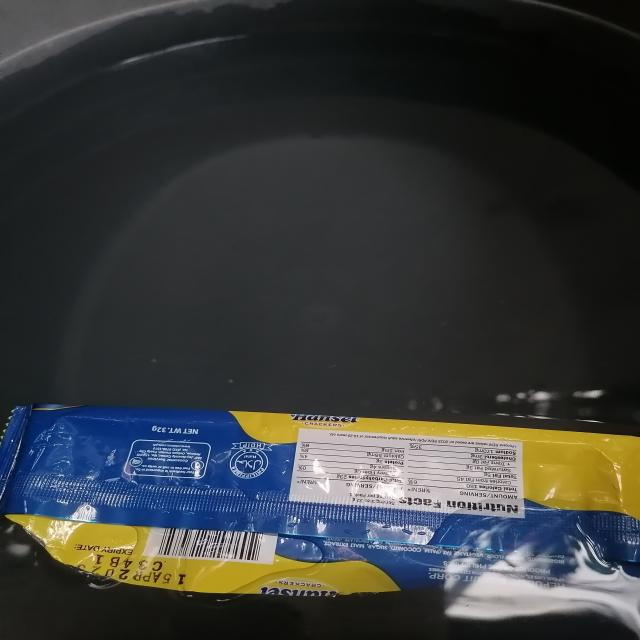Plastic Wrapper: (0, 389, 640, 640)
